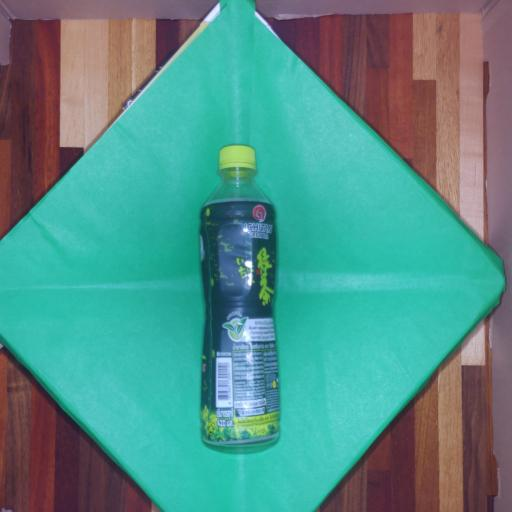bottle: (201, 145, 279, 445)
